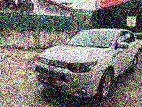car: (30, 23, 139, 102)
